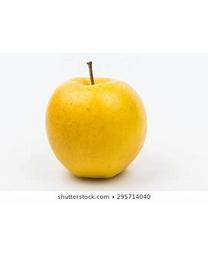apple: (43, 61, 147, 179)
